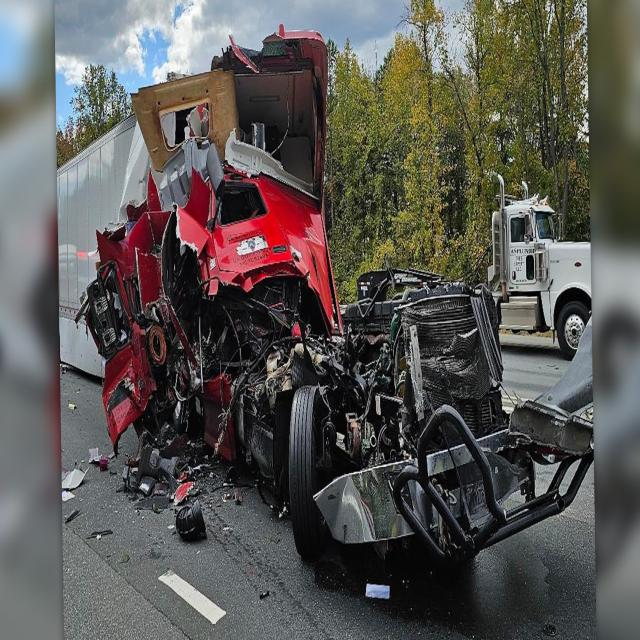Accident: (72, 21, 595, 640)
